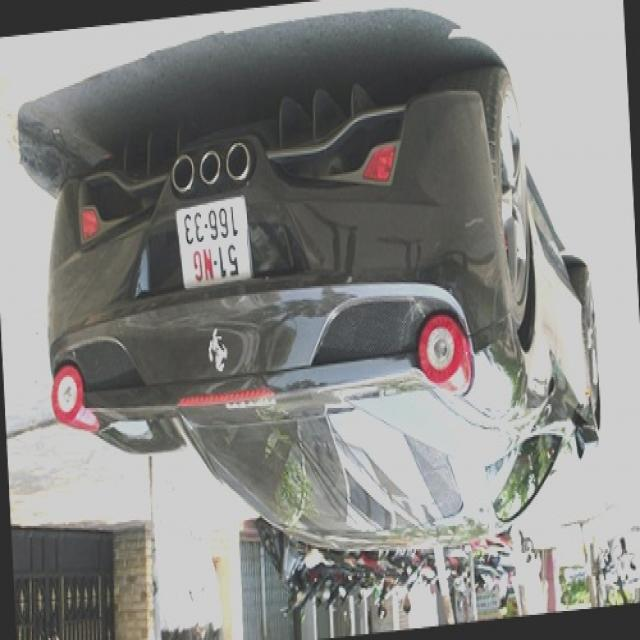bien_ngoai_giao: (174, 198, 256, 290)
